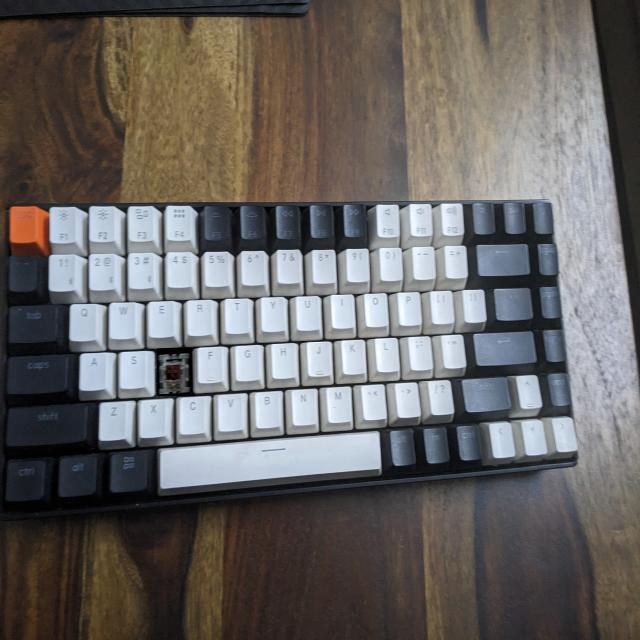C: (157, 348, 195, 396)
